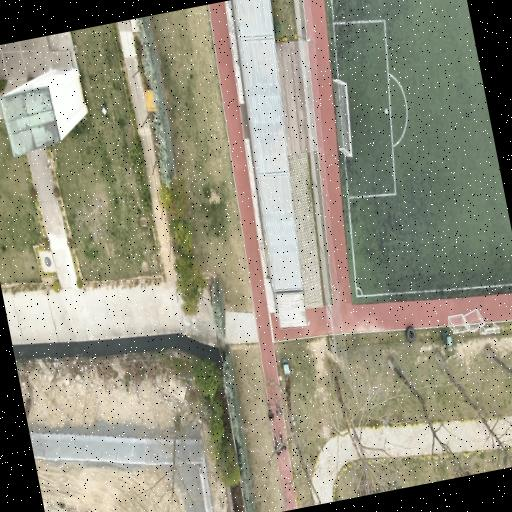person: (273, 433, 280, 455), (280, 432, 286, 450), (268, 402, 274, 420), (276, 400, 282, 417)
